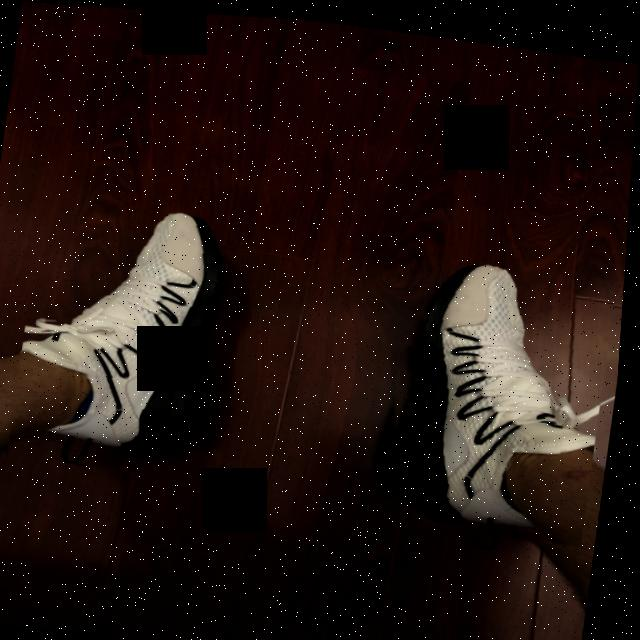shoe: (372, 246, 621, 542), (13, 189, 242, 479)
